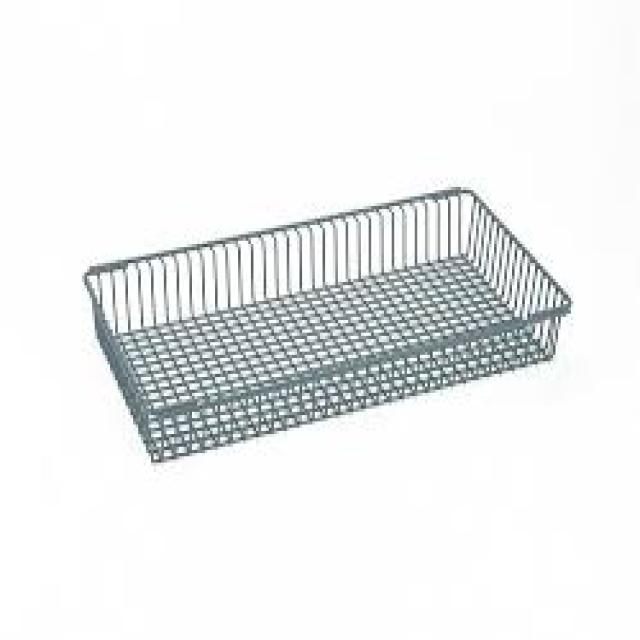basket: (80, 151, 587, 470)
